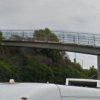Bridge: (6, 18, 95, 66)
